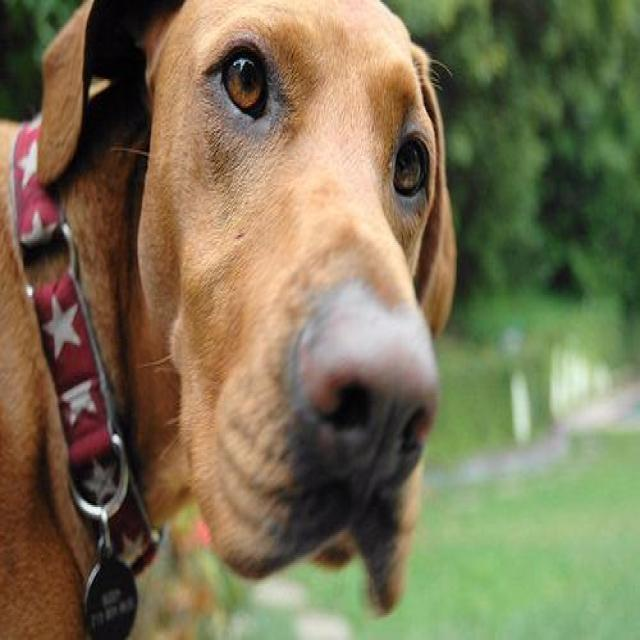vizsla: (0, 0, 453, 638)
